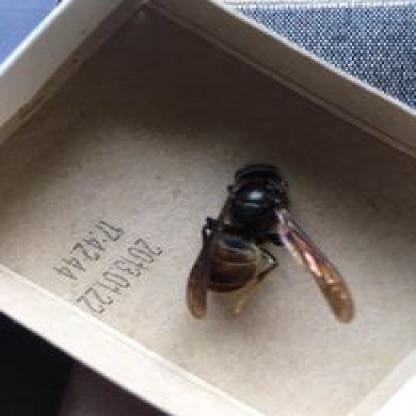Asian Hornet: (181, 149, 360, 319)
